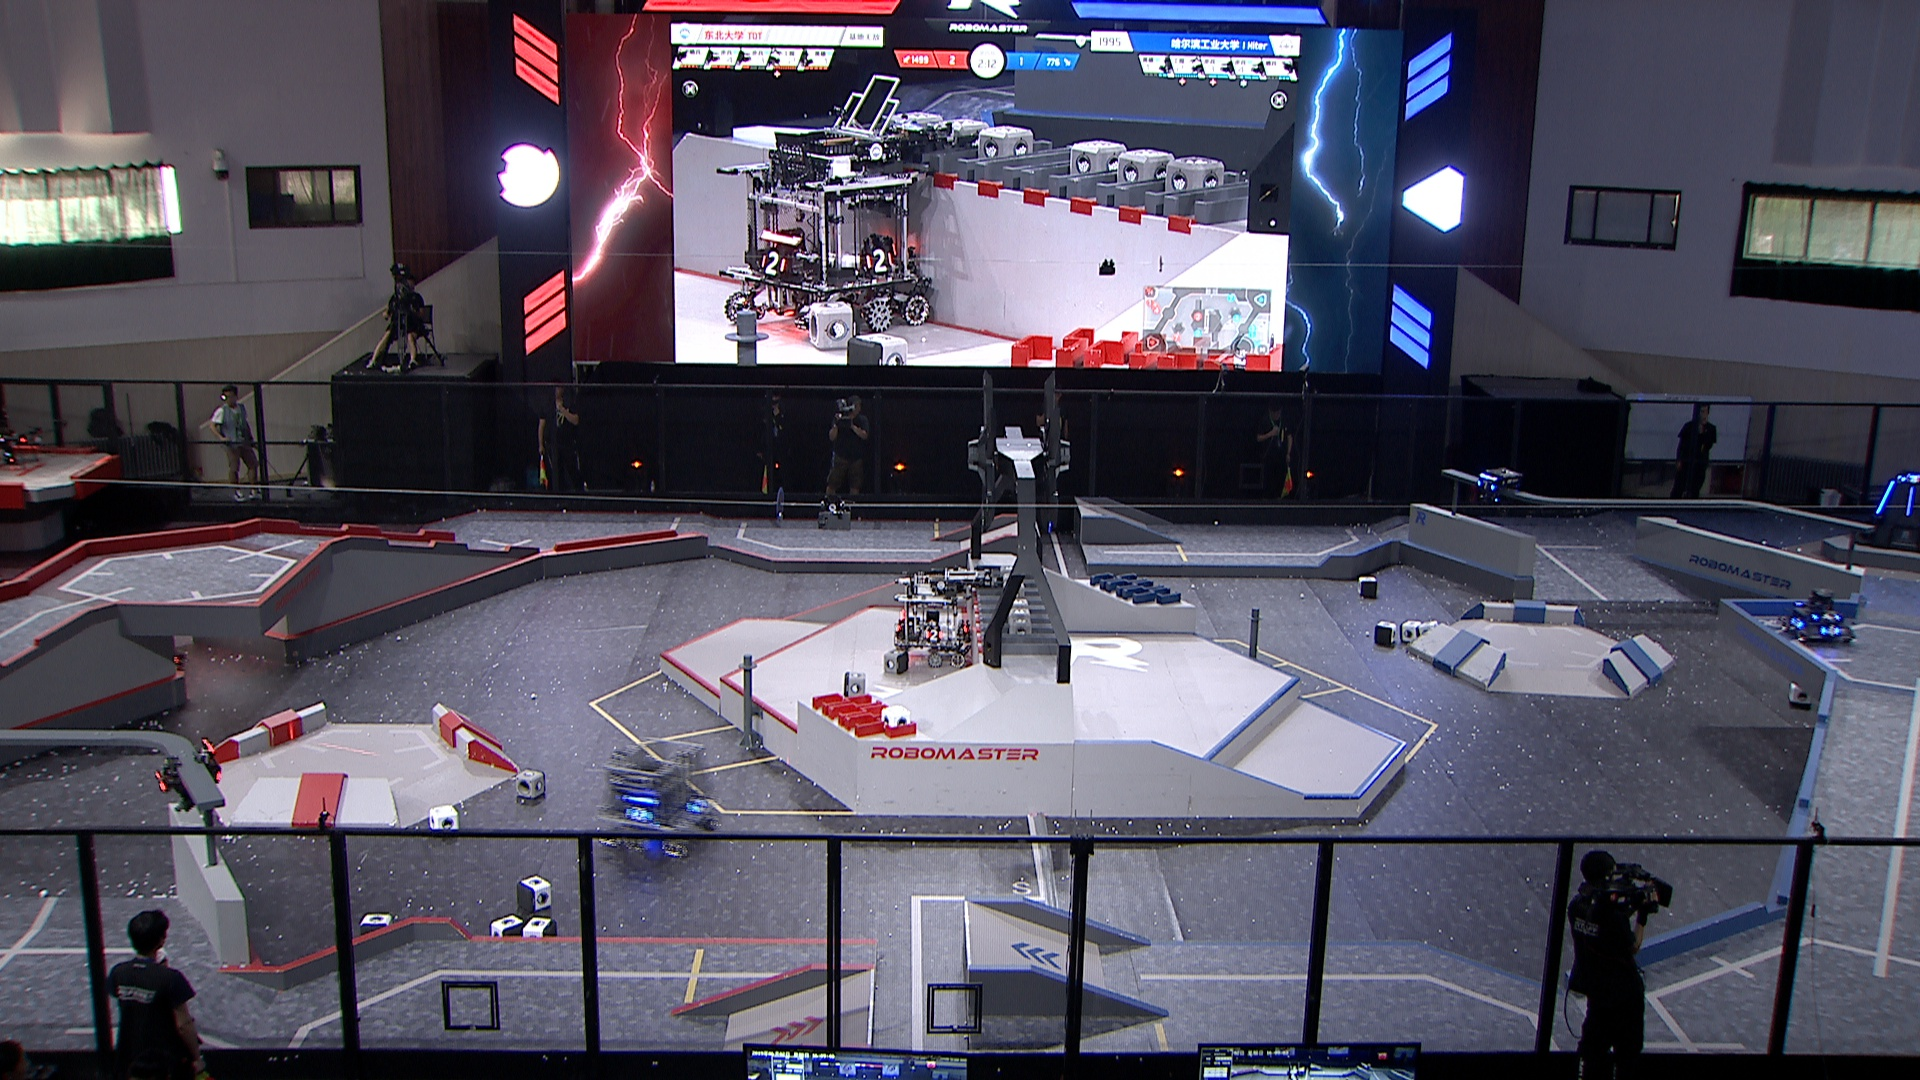armor: (1874, 479, 1898, 517), (684, 794, 709, 818), (622, 804, 651, 823), (150, 770, 169, 794), (1785, 615, 1807, 632), (1904, 487, 1916, 517), (1474, 480, 1498, 495), (923, 628, 945, 642), (1820, 624, 1842, 638), (1811, 612, 1841, 622), (1898, 475, 1920, 487)
base: (1858, 472, 1920, 555)
car: (593, 737, 721, 858), (891, 568, 973, 674), (1779, 589, 1859, 647)
ignore: (716, 129, 935, 332)
watcher: (146, 737, 222, 811), (1474, 465, 1520, 509)
